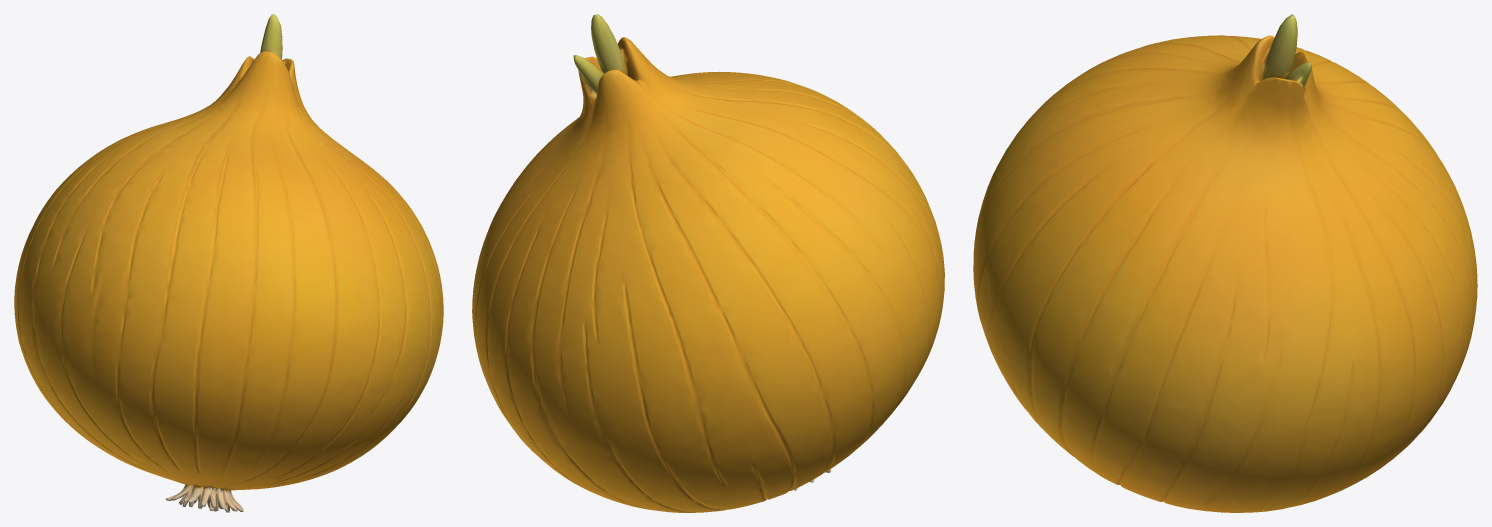
File: onion.glb
The picture shows the model from 3 angles, left to right: view 1: azimuth 30°, elevation 25°; view 2: azimuth 150°, elevation 25°; view 3: azimuth 270°, elevation 25°; orthographic projection. The views are drawn at different scales.
Visible parts, largest first — view 1: tripo_node_88260460-3ad9-4c3e-8f91-74ca096aff37; view 2: tripo_node_88260460-3ad9-4c3e-8f91-74ca096aff37; view 3: tripo_node_88260460-3ad9-4c3e-8f91-74ca096aff37.
Part boxes in pixels (x1,y1,x2,y2): tripo_node_88260460-3ad9-4c3e-8f91-74ca096aff37: (14, 14, 443, 512); tripo_node_88260460-3ad9-4c3e-8f91-74ca096aff37: (472, 14, 944, 512); tripo_node_88260460-3ad9-4c3e-8f91-74ca096aff37: (973, 14, 1477, 512).
Size of the model in its own units: 0.8776 by 0.982 by 0.8721.
1 material, 1 textured.
